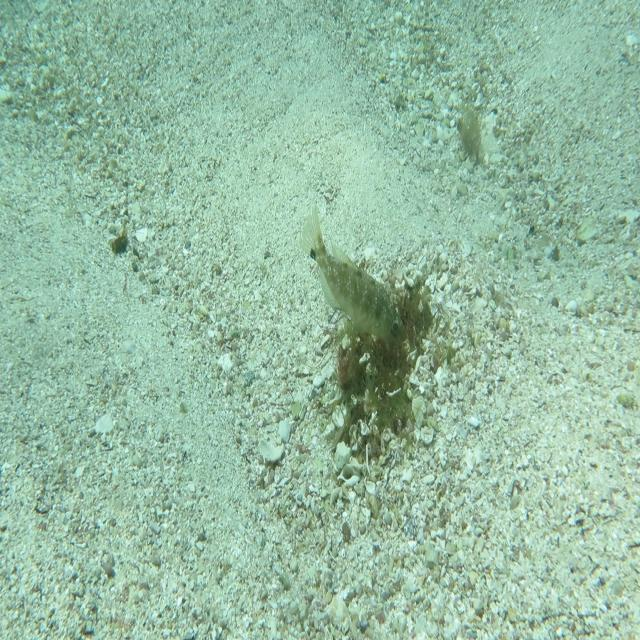NIP_CORE: (294, 200, 408, 352)
nest: (326, 258, 436, 457)
vegetation: (456, 101, 485, 163), (106, 230, 127, 259)
